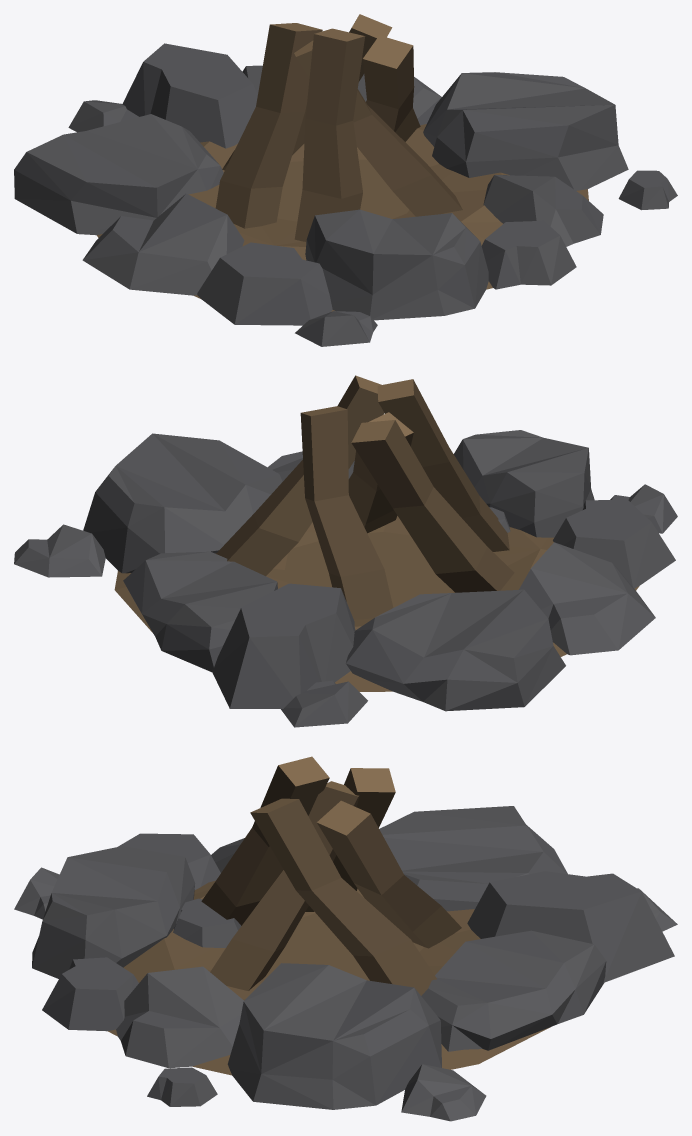
Rendered from campfire.glb.
3 renders of one model, top to bottom at view 1: azimuth 30°, elevation 25°; view 2: azimuth 150°, elevation 25°; view 3: azimuth 270°, elevation 25°, orthographic. The views are drawn at different scales.
Visible parts, largest first — view 1: SM_Env_CampFire_01; view 2: SM_Env_CampFire_01; view 3: SM_Env_CampFire_01.
Boxes of the visible parts, x1=… form: SM_Env_CampFire_01: x1=14, y1=14, x2=677, y2=346; SM_Env_CampFire_01: x1=14, y1=375, x2=677, y2=727; SM_Env_CampFire_01: x1=14, y1=756, x2=677, y2=1121.
Bounding box in the file's own units: 153 × 59.95 × 153.
1 material, 1 textured.
